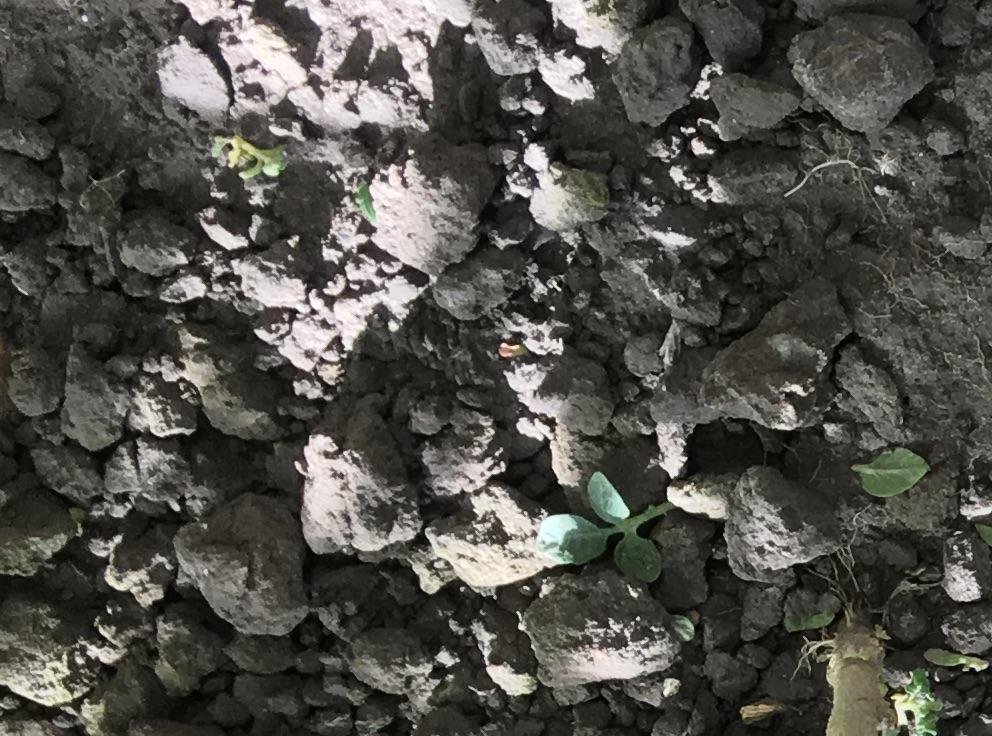block: (698, 277, 849, 439), (519, 574, 689, 690), (367, 130, 498, 279), (168, 497, 308, 636), (298, 404, 424, 555), (784, 15, 935, 138), (720, 462, 843, 583)
